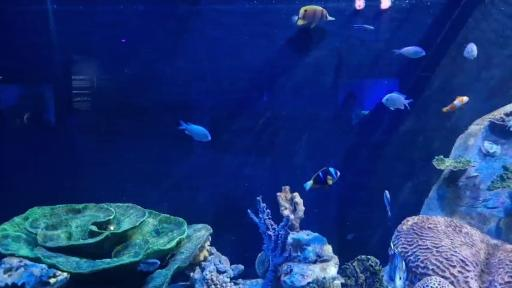Fish: (293, 6, 334, 27), (388, 242, 406, 287), (304, 168, 340, 190), (178, 121, 211, 141), (382, 92, 412, 109), (443, 96, 469, 112), (393, 47, 425, 58), (463, 43, 477, 59), (384, 191, 391, 217)
